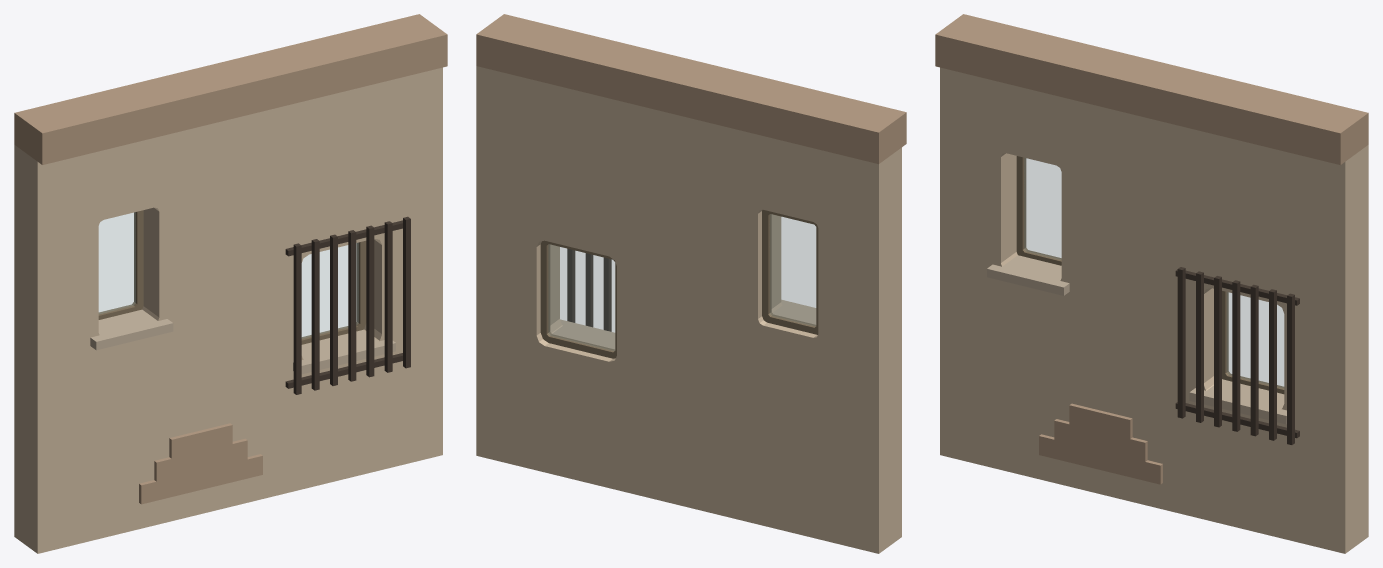
Rendered from city_res_privacy.glb.
3 renders of one model, left to right at view 1: azimuth 30°, elevation 25°; view 2: azimuth 150°, elevation 25°; view 3: azimuth 330°, elevation 25°, orthographic.
Parts seen in each view (by area): view 1: CityResPrivacy_Wall, CityResPrivacy_Band, CityResPrivacy_Mesa, CityResPrivacy_HighGlass, CityResPrivacy_SquareGlass, CityResPrivacy_HighSill, CityResPrivacy_SquareSill, CityResPrivacy_Lath4, CityResPrivacy_Lath3, CityResPrivacy_Lath5, CityResPrivacy_Lath1, CityResPrivacy_Lath0 (+6 smaller); view 2: CityResPrivacy_Wall, CityResPrivacy_Band, CityResPrivacy_SquareGlass, CityResPrivacy_HighGlass, CityResPrivacy_SquareFrame, CityResPrivacy_HighFrame, CityResPrivacy_SquareSill, CityResPrivacy_HighSill, CityResPrivacy_Lath3, CityResPrivacy_Lath4, CityResPrivacy_Lath5; view 3: CityResPrivacy_Wall, CityResPrivacy_Band, CityResPrivacy_Mesa, CityResPrivacy_HighGlass, CityResPrivacy_SquareGlass, CityResPrivacy_HighSill, CityResPrivacy_SquareSill, CityResPrivacy_HighFrame, CityResPrivacy_Lath3, CityResPrivacy_Lath0, CityResPrivacy_Lath4, CityResPrivacy_Lath1 (+6 smaller).
Boxes of the visible parts, x1,y1,x2,y2 form: CityResPrivacy_Wall: [14, 67, 442, 553]; CityResPrivacy_Band: [14, 14, 447, 164]; CityResPrivacy_Mesa: [139, 423, 262, 504]; CityResPrivacy_HighGlass: [99, 212, 135, 313]; CityResPrivacy_SquareGlass: [302, 243, 358, 338]; CityResPrivacy_HighSill: [90, 309, 173, 350]; CityResPrivacy_SquareSill: [293, 330, 395, 374]; CityResPrivacy_Lath4: [366, 225, 374, 377]; CityResPrivacy_Lath3: [348, 230, 356, 381]; CityResPrivacy_Lath5: [384, 221, 392, 372]; CityResPrivacy_Lath1: [311, 239, 319, 390]; CityResPrivacy_Lath0: [293, 243, 301, 394]; CityResPrivacy_Wall: [476, 66, 901, 553]; CityResPrivacy_Band: [476, 14, 906, 164]; CityResPrivacy_SquareGlass: [548, 244, 614, 350]; CityResPrivacy_HighGlass: [770, 214, 815, 326]; CityResPrivacy_SquareFrame: [540, 240, 616, 358]; CityResPrivacy_HighFrame: [762, 210, 818, 334]; CityResPrivacy_SquareSill: [552, 319, 615, 349]; CityResPrivacy_HighSill: [773, 300, 816, 324]; CityResPrivacy_Lath3: [603, 257, 611, 331]; CityResPrivacy_Lath4: [585, 253, 593, 327]; CityResPrivacy_Lath5: [567, 249, 575, 322]; CityResPrivacy_Wall: [940, 67, 1368, 553]; CityResPrivacy_Band: [935, 14, 1368, 164]; CityResPrivacy_Mesa: [1039, 403, 1162, 484]; CityResPrivacy_HighGlass: [1024, 158, 1061, 259]; CityResPrivacy_SquareGlass: [1227, 292, 1283, 387]; CityResPrivacy_HighSill: [987, 255, 1069, 295]; CityResPrivacy_SquareSill: [1189, 379, 1286, 424]; CityResPrivacy_HighFrame: [1016, 156, 1061, 265]; CityResPrivacy_Lath3: [1232, 280, 1240, 431]; CityResPrivacy_Lath0: [1177, 267, 1185, 418]; CityResPrivacy_Lath4: [1250, 284, 1258, 436]; CityResPrivacy_Lath1: [1196, 271, 1203, 422].
Size of the model in its own units: 4 by 4 by 0.58.
